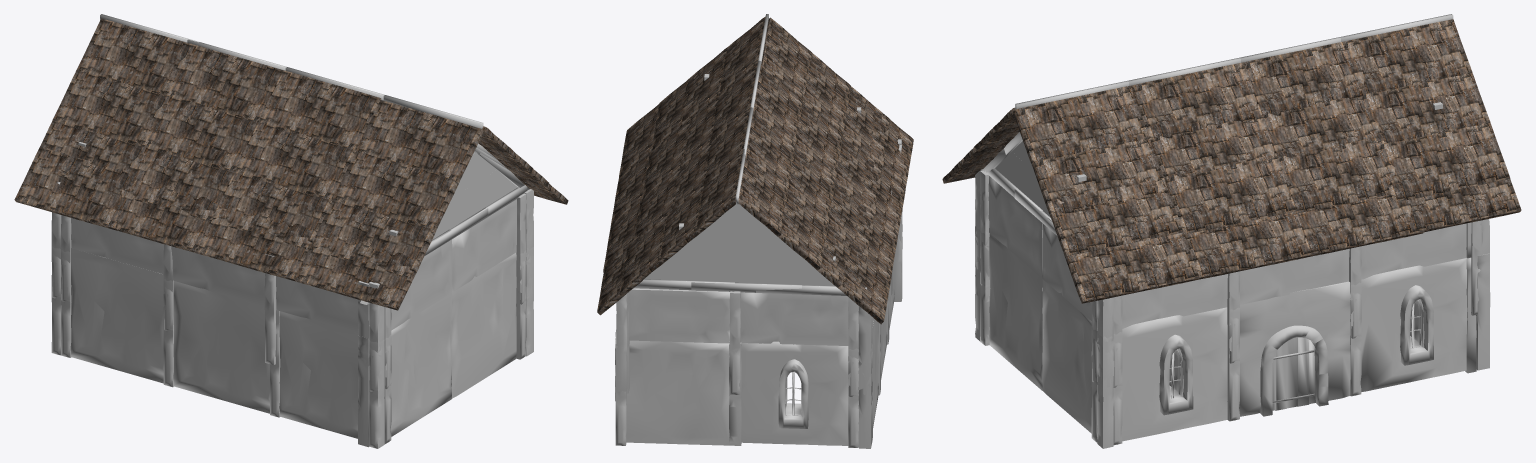
Rendered from Casa_V6_Red.fbx.
3 renders of one model, left to right at view 1: azimuth 30°, elevation 25°; view 2: azimuth 150°, elevation 25°; view 3: azimuth 270°, elevation 25°, orthographic. The views are drawn at different scales.
Visible parts, largest first — view 1: tejado__22_; view 2: tejado__22_; view 3: tejado__22_.
Boxes of the visible parts, box(x1,y1,x2,y2) form: tejado__22_: box(14, 14, 568, 448); tejado__22_: box(597, 14, 913, 448); tejado__22_: box(942, 14, 1521, 448).
Size of the model in its own units: 1183 by 771 by 1358.
